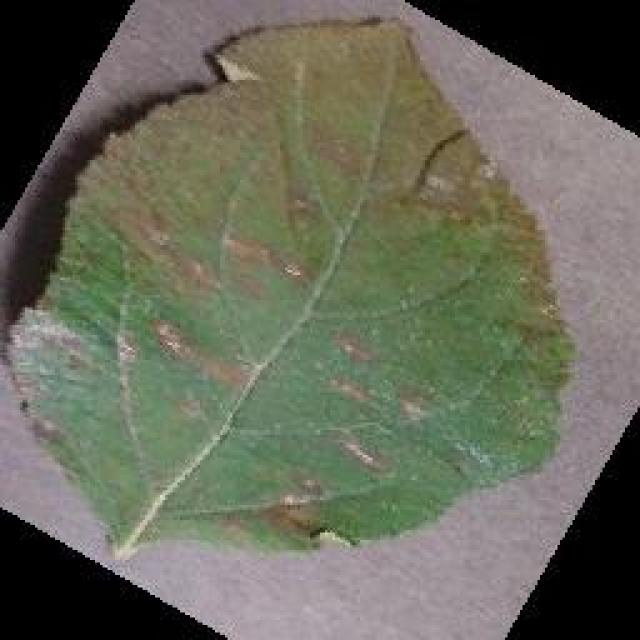apple cedar apple rust: (0, 12, 578, 562)
